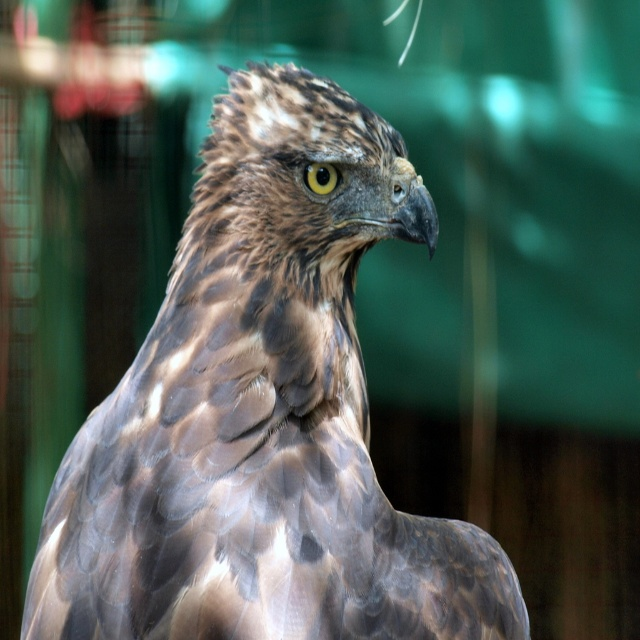Eagle: (16, 52, 534, 639)
